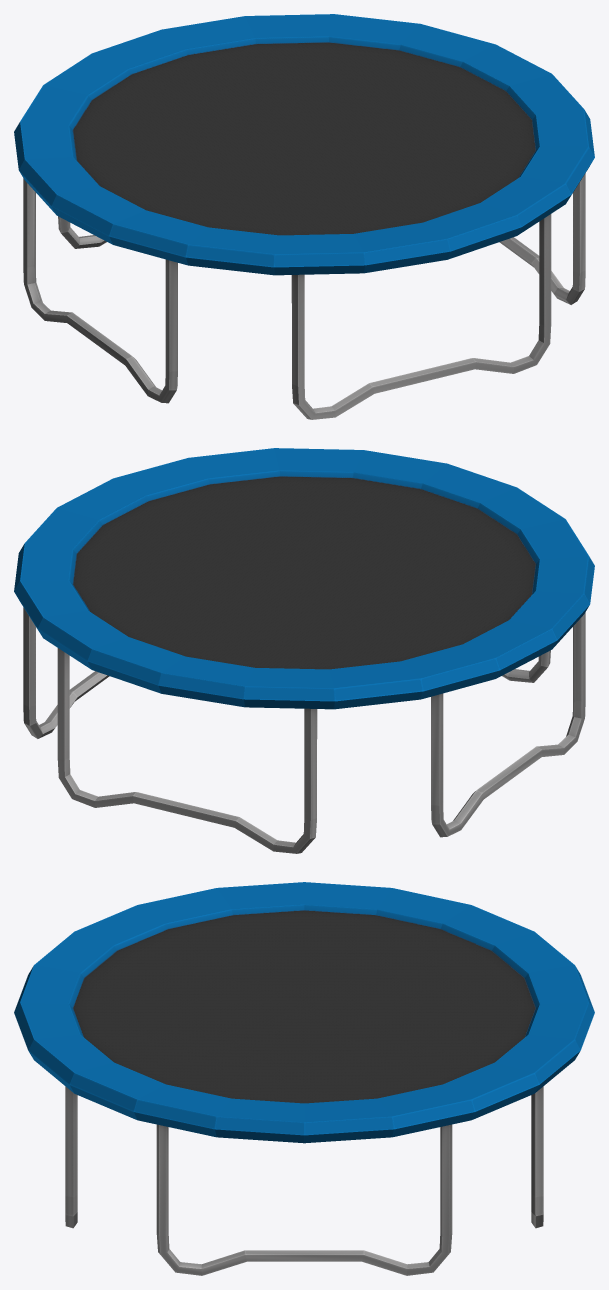
Rendered from Trampoline.glb.
3 views of the same model, one above another, from view 1: azimuth 30°, elevation 25°; view 2: azimuth 150°, elevation 25°; view 3: azimuth 270°, elevation 25° (orthographic).
Visible parts, largest first — view 1: Trampoline_Mesh; view 2: Trampoline_Mesh; view 3: Trampoline_Mesh.
Boxes of the visible parts, x1=… form: Trampoline_Mesh: x1=14, y1=14, x2=594, y2=419; Trampoline_Mesh: x1=14, y1=448, x2=594, y2=853; Trampoline_Mesh: x1=14, y1=882, x2=594, y2=1275.
Bounding box in the file's own units: 1.09 × 0.3615 × 1.09.
1 material, 1 textured.
